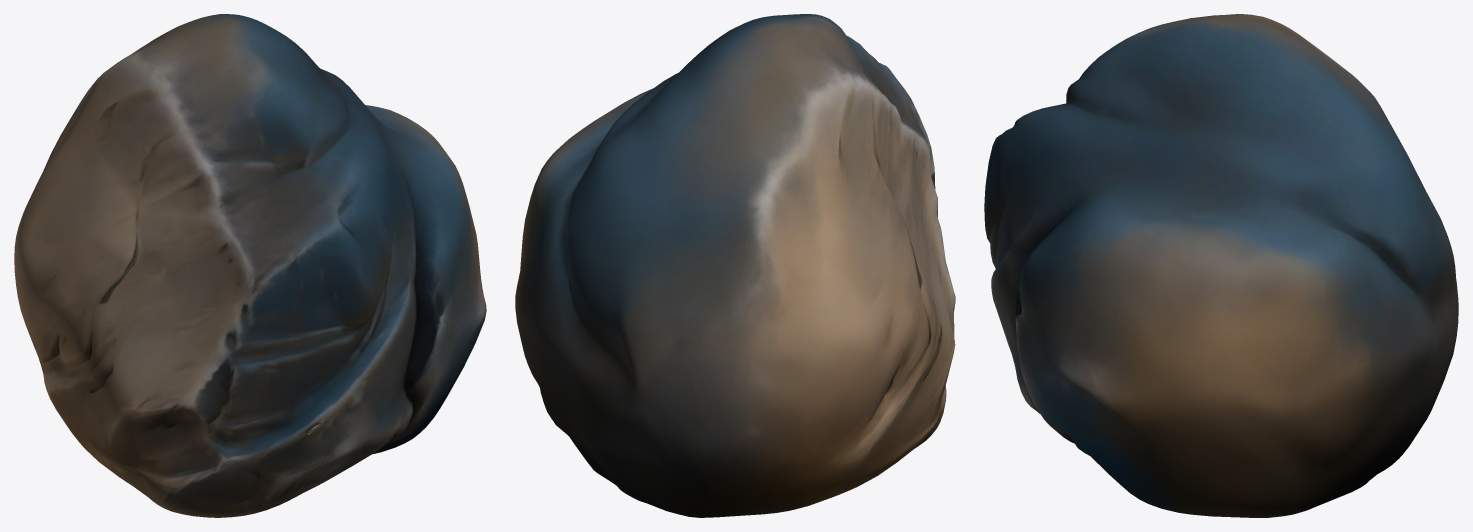
Rendered from large_rock_051293c4_v4.glb.
3 renders of one model, left to right at view 1: azimuth 30°, elevation 25°; view 2: azimuth 150°, elevation 25°; view 3: azimuth 270°, elevation 25°, orthographic.
Parts seen in each view (by area): view 1: material; view 2: material; view 3: material.
Boxes of the visible parts, x1,y1,x2,y2 form: material: (14, 14, 486, 517); material: (515, 14, 955, 517); material: (984, 14, 1458, 517).
Size of the model in its own units: 1.74 by 1.89 by 1.9.
1 material, 1 textured.
